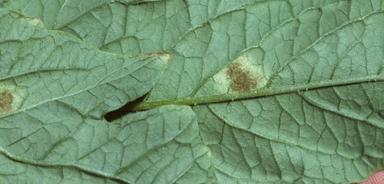Tomato mold leaf: (0, 0, 384, 184), (0, 9, 299, 184)
